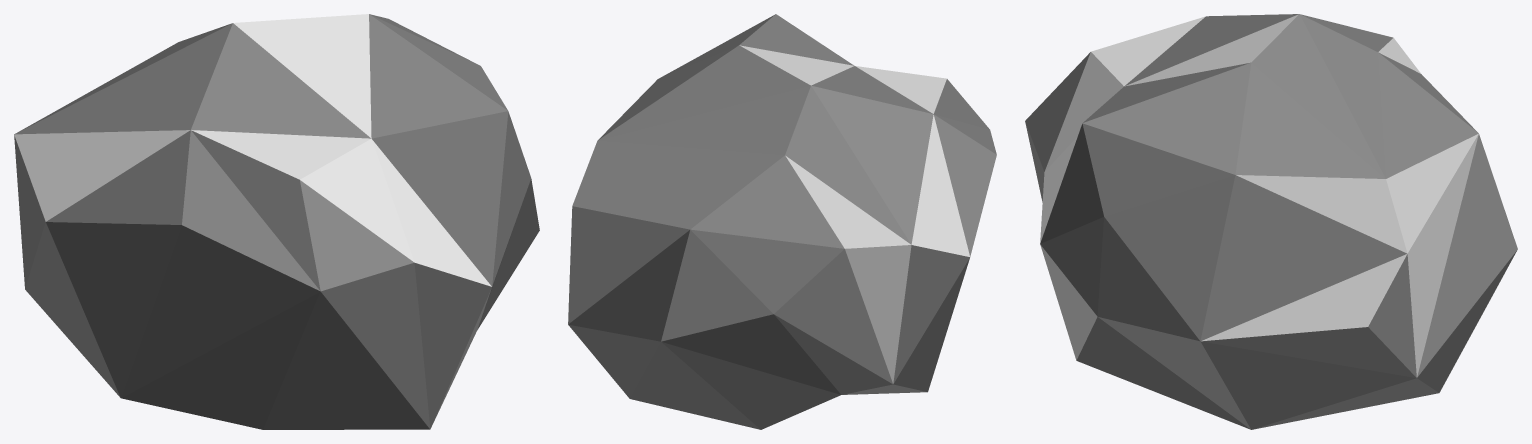
The model's file is GoldOre_1.fbx.
3 renders of one model, left to right at view 1: azimuth 30°, elevation 25°; view 2: azimuth 150°, elevation 25°; view 3: azimuth 270°, elevation 25°, orthographic. The views are drawn at different scales.
Visible parts, largest first — view 1: GoldOre_LOD0; view 2: GoldOre_LOD0; view 3: GoldOre_LOD0.
Boxes of the visible parts, left/top/right/bottom form: GoldOre_LOD0: left=14, top=14, right=539, bottom=429; GoldOre_LOD0: left=568, top=14, right=996, bottom=429; GoldOre_LOD0: left=1025, top=14, right=1517, bottom=429.
Size of what is drawn, in the model's own units: 175 by 149 by 184.
